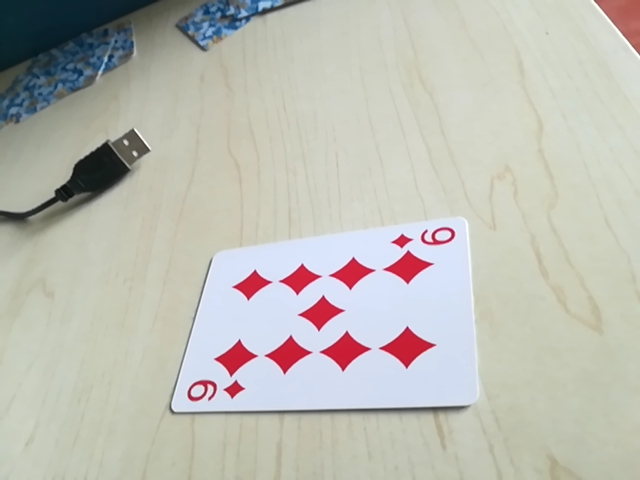fk 9: (180, 375, 250, 410), (390, 223, 462, 255)
